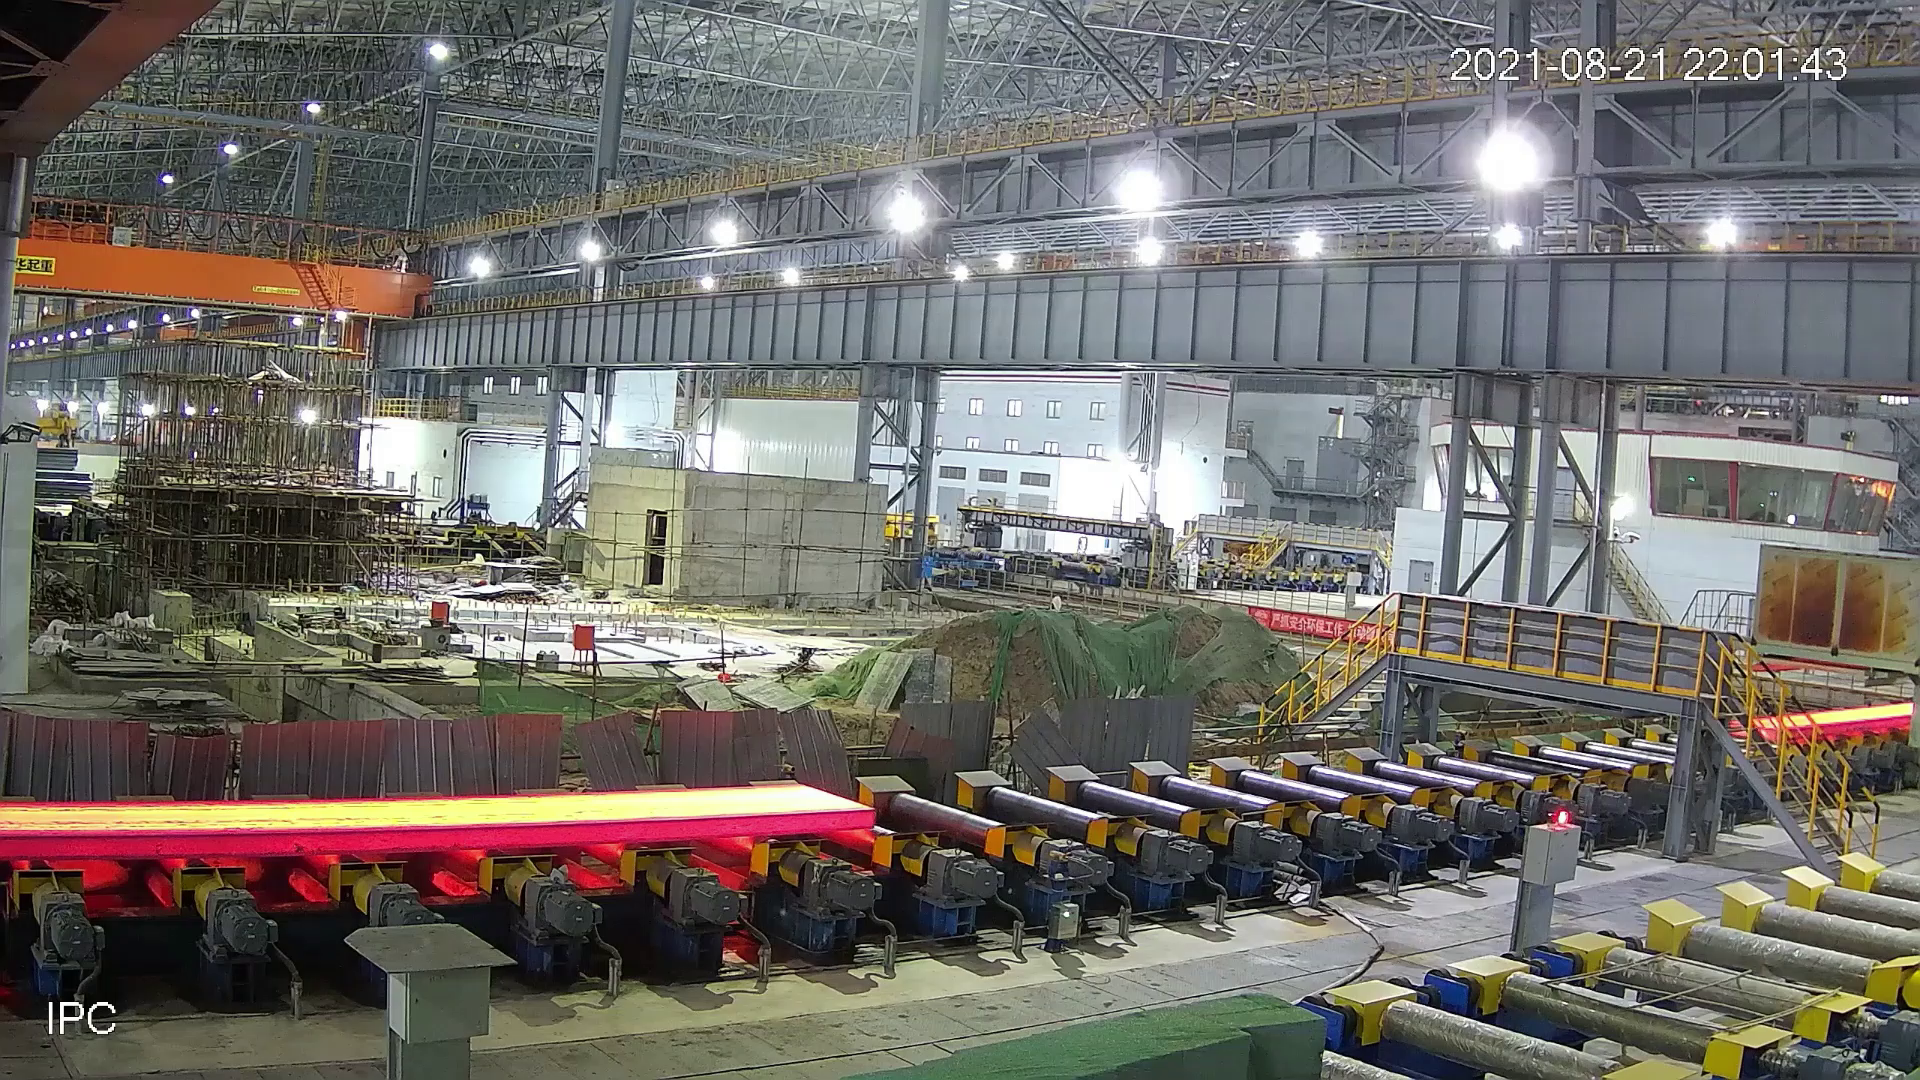slab: (1, 786, 876, 862), (1731, 698, 1911, 742)
